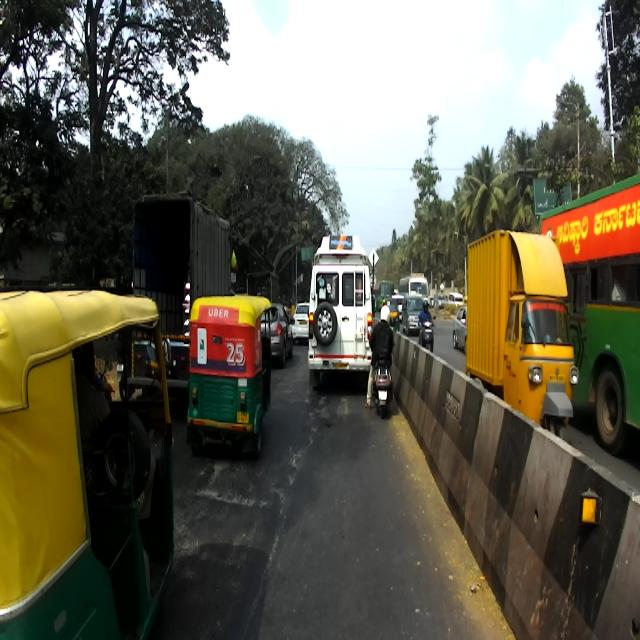auto ahead at: (0, 288, 175, 640), (195, 303, 272, 454)
bus ahead at: (310, 235, 374, 387)
motorcycle ahead at: (370, 358, 397, 416)
